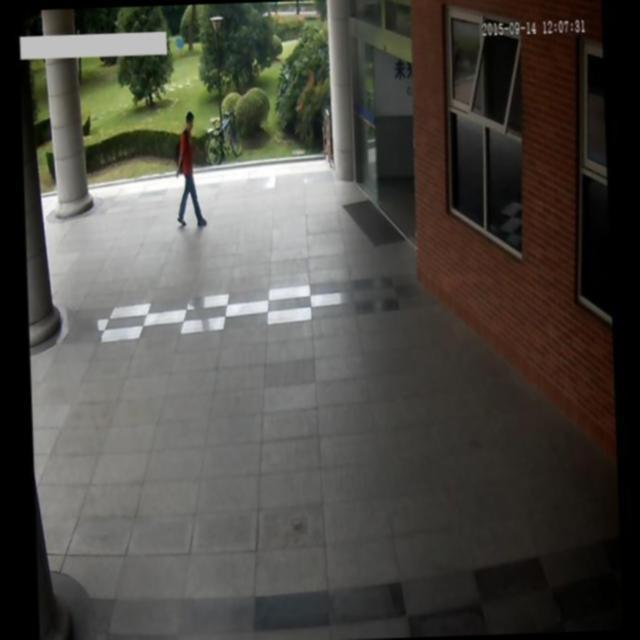person: (172, 109, 210, 240)
